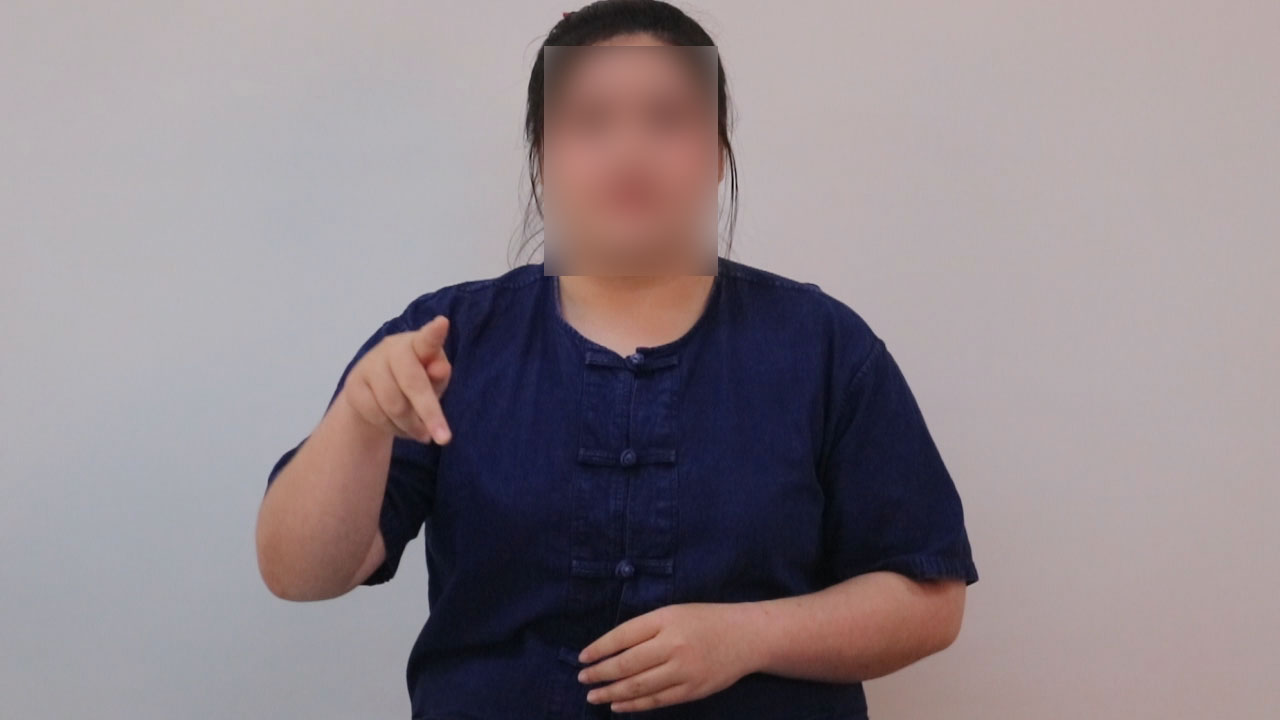por: (325, 315, 483, 456)
